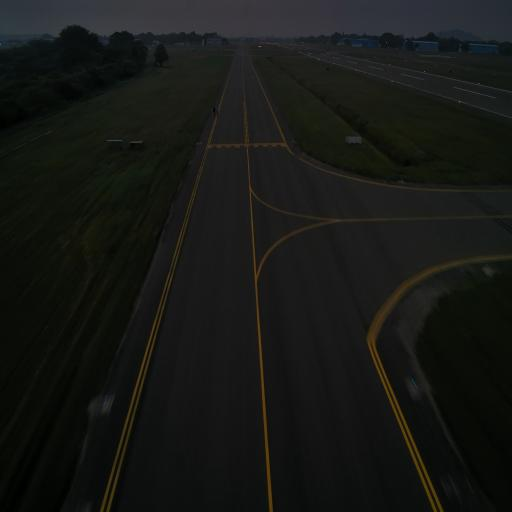off: (269, 145, 272, 149), (238, 146, 240, 150), (223, 147, 225, 150), (255, 146, 256, 149)
on: (99, 393, 109, 412), (409, 374, 419, 393), (485, 261, 490, 271), (400, 177, 404, 185), (292, 138, 294, 142), (200, 140, 202, 144), (276, 106, 278, 109), (212, 107, 214, 109)
